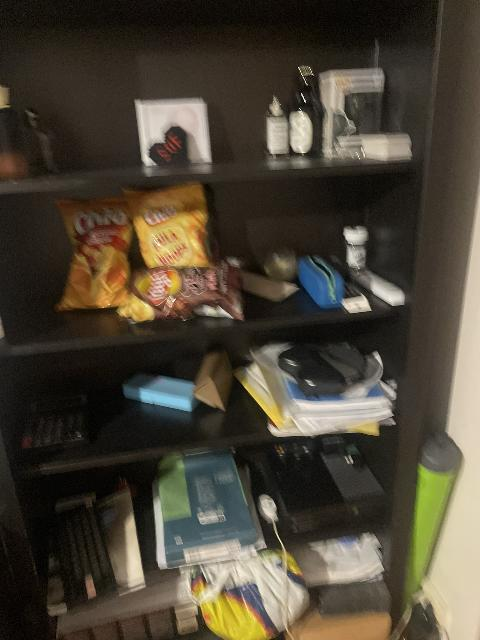Chio Cascaval 125g: (51, 195, 139, 314)
Chio Hula Hoops Cheese 70g: (124, 183, 213, 273)
Lays Beef Grilled Ribs 125g: (125, 256, 244, 322)
